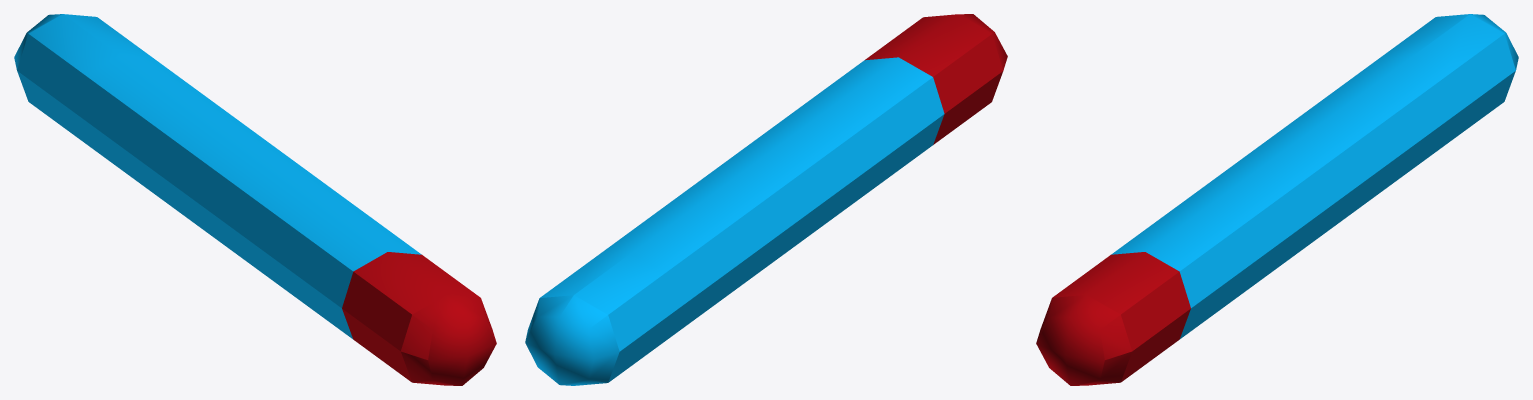
The model's file is bolt.dae.
3 views of the same model, side by side, from view 1: azimuth 30°, elevation 25°; view 2: azimuth 150°, elevation 25°; view 3: azimuth 330°, elevation 25° (orthographic).
Visible parts, largest first — view 1: Box; view 2: Box; view 3: Box.
Part boxes in pixels (x1,y1,x2,y2): Box: (14,14,496,385); Box: (525,14,1007,385); Box: (1036,14,1518,385).
Bounding box in the file's own units: 0.0312 × 0.0295 × 0.25.
